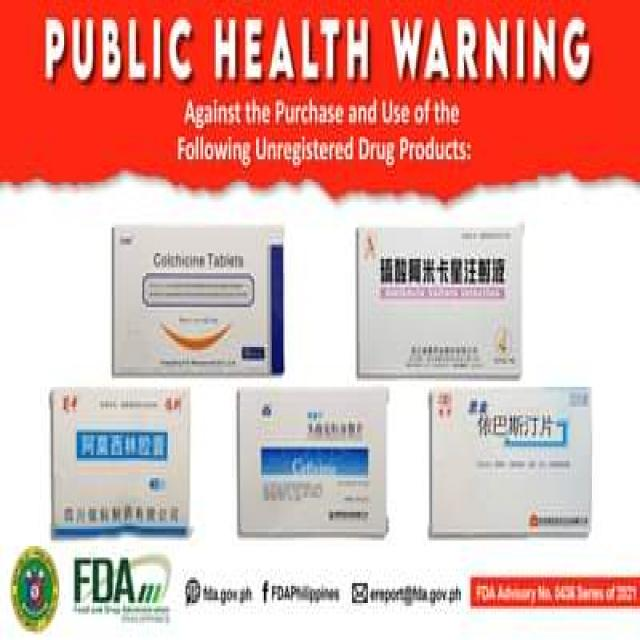counterfeit: (421, 382, 599, 537), (106, 222, 292, 370), (356, 218, 529, 372), (232, 383, 396, 542), (48, 383, 197, 539)
